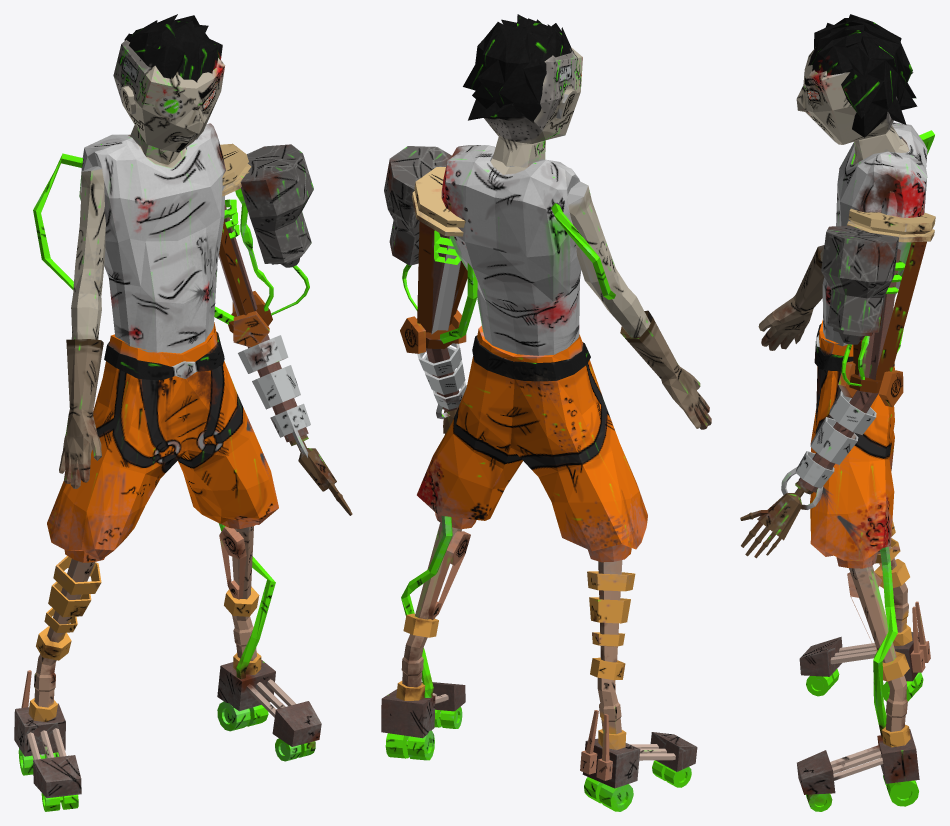
Rendered from CyborgFINALAnimation_000002.obj.
3 renders of one model, left to right at view 1: azimuth 30°, elevation 25°; view 2: azimuth 150°, elevation 25°; view 3: azimuth 270°, elevation 25°, orthographic. The views are drawn at different scales.
Visible parts, largest first — view 1: CyborgMesh_Cube.002; view 2: CyborgMesh_Cube.002; view 3: CyborgMesh_Cube.002.
Boxes of the visible parts, box(x1,y1,x2,y2) form: CyborgMesh_Cube.002: box(14, 14, 352, 811); CyborgMesh_Cube.002: box(381, 14, 711, 811); CyborgMesh_Cube.002: box(740, 14, 935, 811).
Size of the model in its own units: 3.85 by 9.66 by 2.33.
